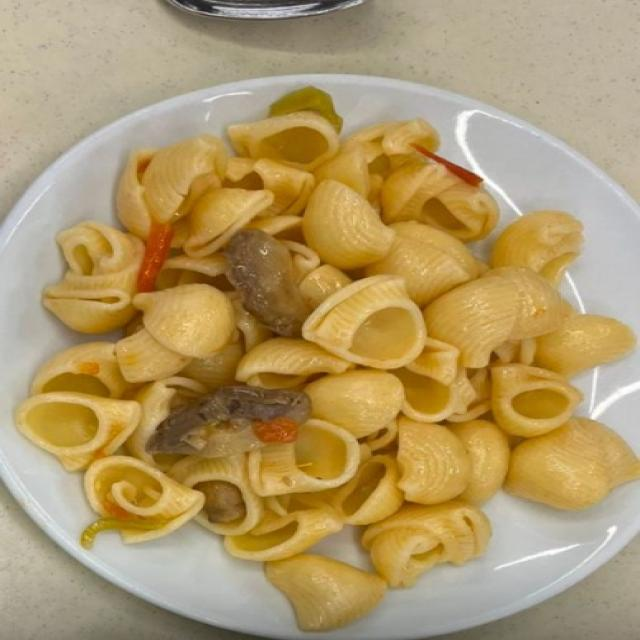ana_yemek: (10, 83, 638, 634)
